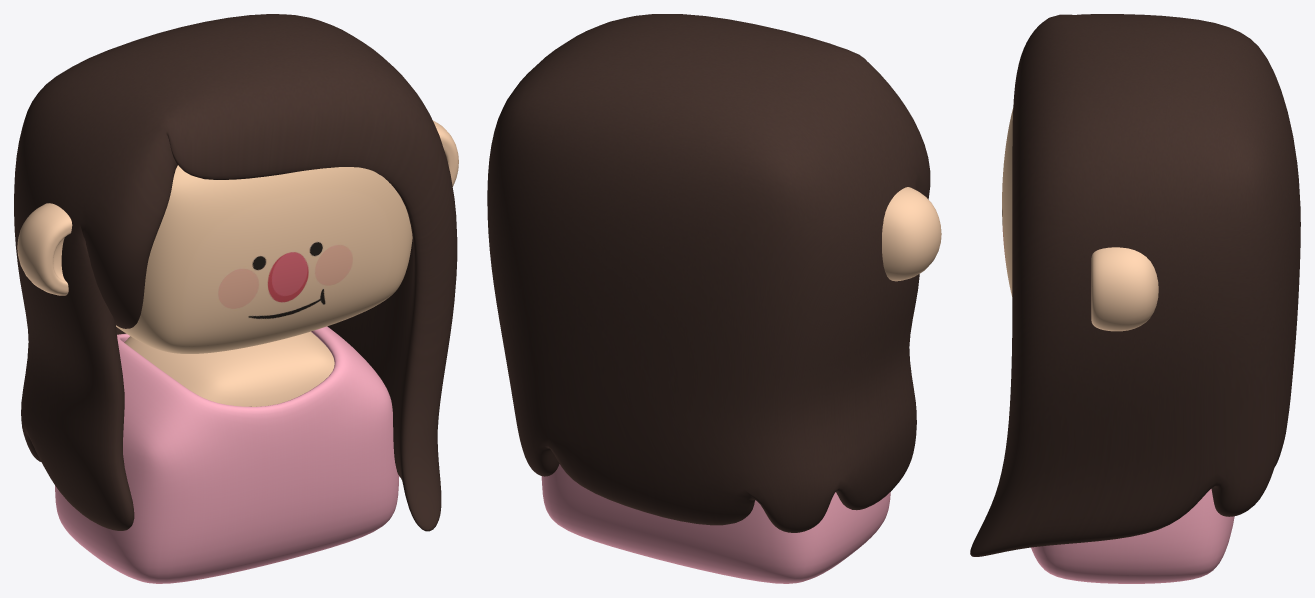
The model's file is WomanFinal.fbx.
3 renders of one model, left to right at view 1: azimuth 30°, elevation 25°; view 2: azimuth 150°, elevation 25°; view 3: azimuth 270°, elevation 25°, orthographic. The views are drawn at different scales.
Parts seen in each view (by area): view 1: hair, torso1, pasted__head, torso, right_ear, left_ear; view 2: hair, torso1, right_ear; view 3: hair, torso1, left_ear, pasted__head.
Part boxes in pixels (x1,y1,x2,y2): hair: (14, 14, 457, 531); torso1: (55, 326, 399, 583); pasted__head: (116, 165, 412, 353); torso: (124, 331, 334, 406); right_ear: (17, 203, 72, 295); left_ear: (433, 120, 458, 186); hair: (487, 14, 930, 532); torso1: (541, 464, 890, 583); right_ear: (882, 187, 941, 281); hair: (970, 14, 1300, 556); torso1: (1031, 489, 1234, 583); left_ear: (1091, 247, 1158, 331); pasted__head: (1002, 108, 1013, 296).
Bounding box in the file's own units: 86.15 × 96.3 × 58.37.
Materials: 4 (4 with a texture image).
